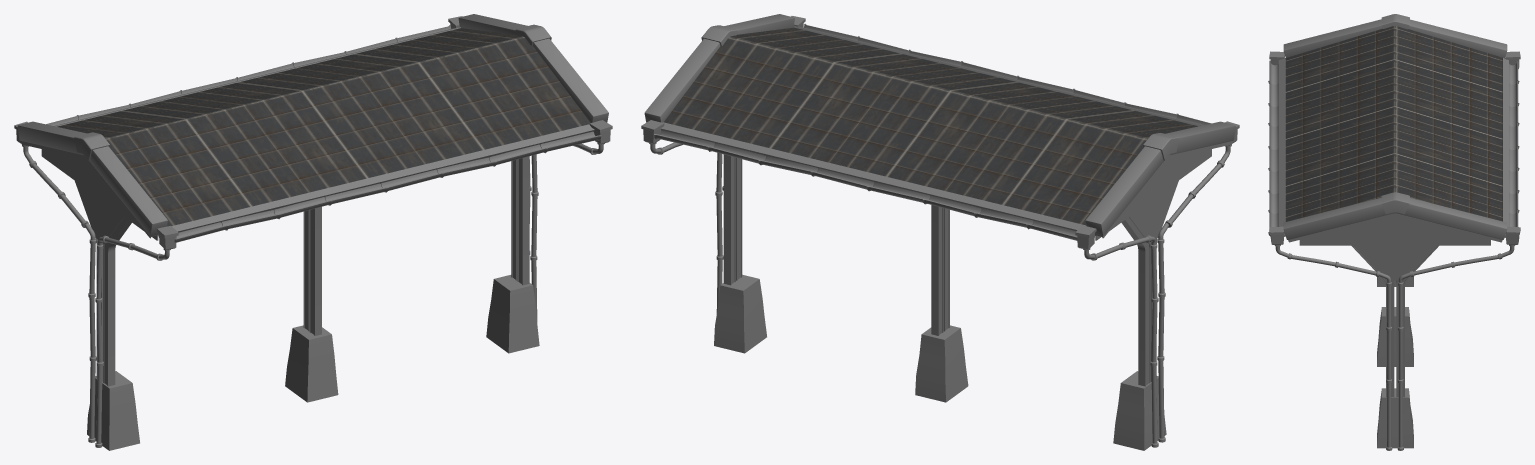
File: SM_trainstation_stop_japan.fbx
The picture shows the model from 3 angles, left to right: view 1: azimuth 30°, elevation 25°; view 2: azimuth 150°, elevation 25°; view 3: azimuth 270°, elevation 25°; orthographic projection. The views are drawn at different scales.
Parts seen in each view (by area): view 1: Object32375; view 2: Object32375; view 3: Object32375.
Boxes of the visible parts, box(x1,y1,x2,y2) form: Object32375: box(14, 14, 612, 450); Object32375: box(641, 14, 1239, 450); Object32375: box(1268, 14, 1520, 450).
Size of the model in its own units: 480 by 306 by 275.
